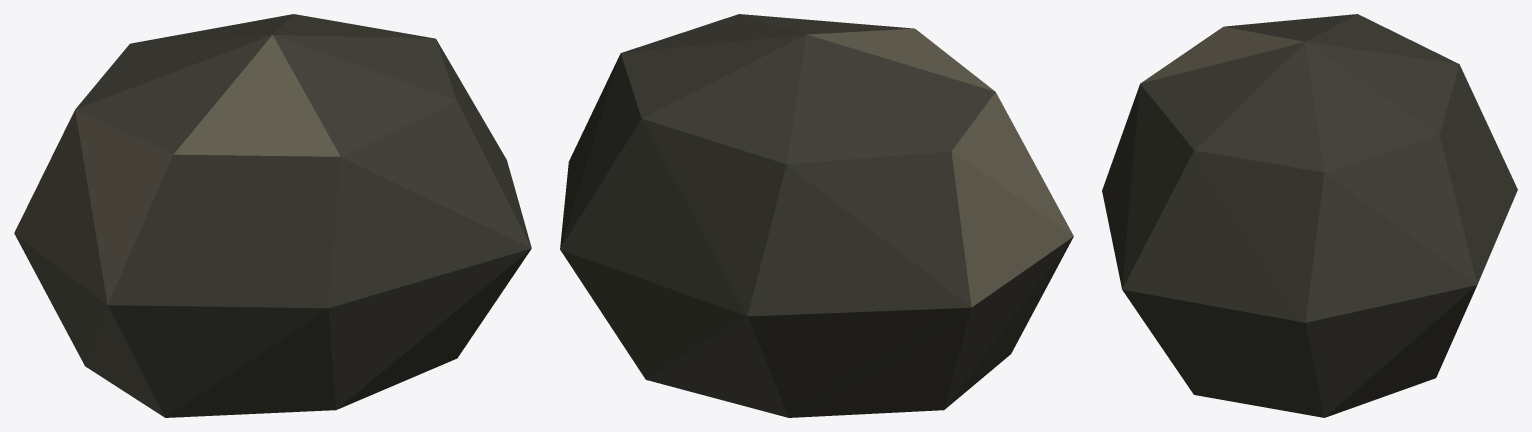
The model's file is Rock_Pebble_03.fbx.
3 renders of one model, left to right at view 1: azimuth 30°, elevation 25°; view 2: azimuth 150°, elevation 25°; view 3: azimuth 270°, elevation 25°, orthographic. The views are drawn at different scales.
Parts seen in each view (by area): view 1: Rock_Pebble_03_Mesh; view 2: Rock_Pebble_03_Mesh; view 3: Rock_Pebble_03_Mesh.
Boxes of the visible parts, x1=… form: Rock_Pebble_03_Mesh: x1=14, y1=14, x2=531, y2=417; Rock_Pebble_03_Mesh: x1=560, y1=14, x2=1073, y2=417; Rock_Pebble_03_Mesh: x1=1102, y1=14, x2=1517, y2=417.
Size of the model in its own units: 0.3643 by 0.2832 by 0.3091.
Materials: 1 (1 with a texture image).
